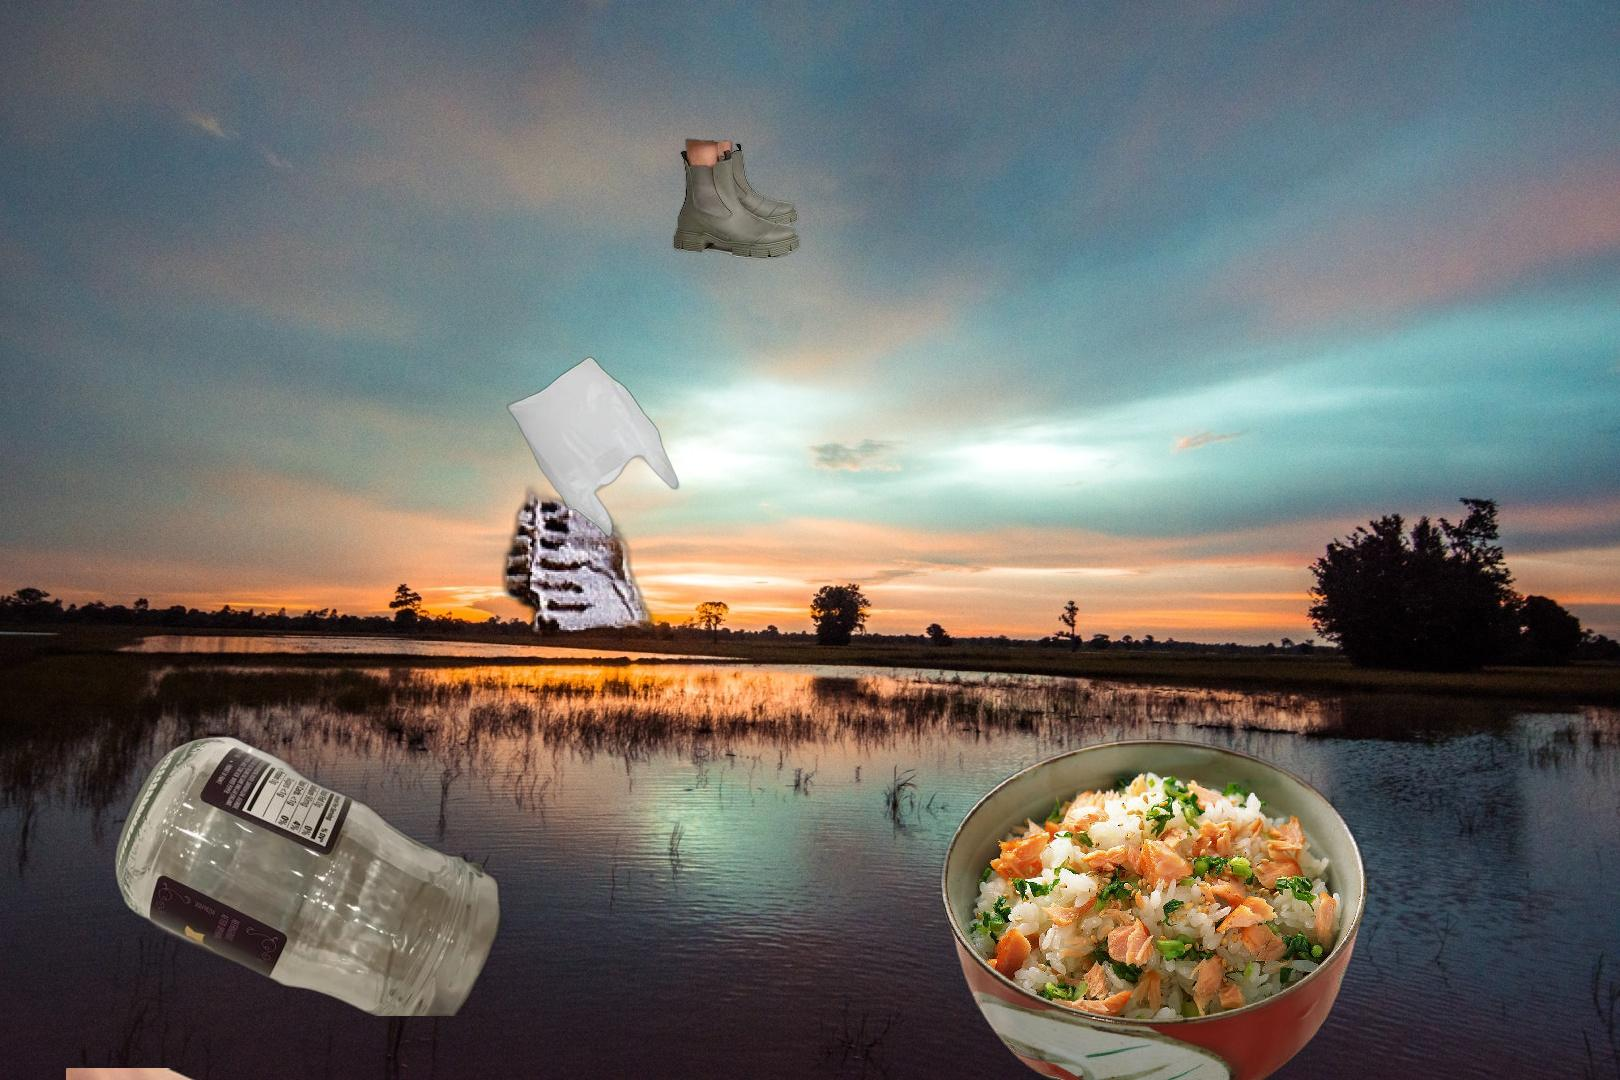biological: (937, 735, 1373, 1080)
glass: (111, 734, 511, 1016)
plastic-bag: (505, 354, 682, 585)
shoes: (669, 135, 803, 260), (66, 1068, 436, 1080)
trashbox-cardboard: (494, 475, 667, 661)
